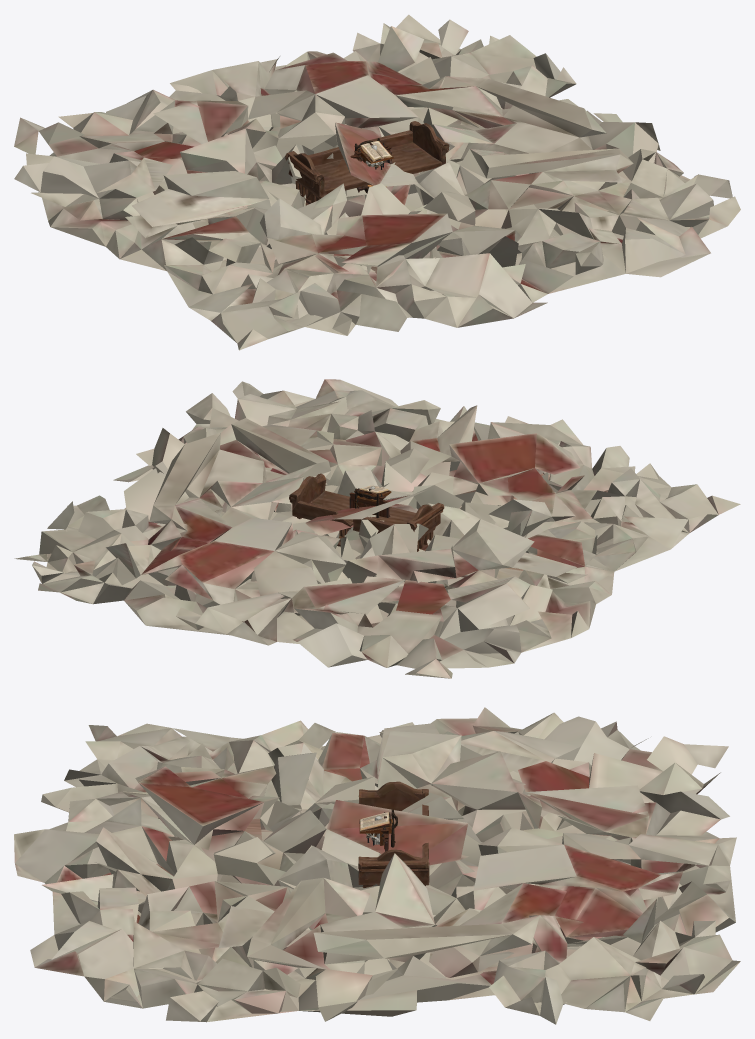
Rendered from arredi.glb.
The picture shows the model from 3 angles, top to bottom: view 1: azimuth 30°, elevation 25°; view 2: azimuth 150°, elevation 25°; view 3: azimuth 270°, elevation 25°; orthographic projection. The views are drawn at different scales.
Visible parts, largest first — view 1: macerie, rotta; view 2: macerie, rotta; view 3: macerie, rotta, leggio.
Boxes of the visible parts, <box> form: macerie: <box>14,14,740,350</box>; rotta: <box>285,121,449,205</box>; macerie: <box>14,379,740,678</box>; rotta: <box>289,473,444,551</box>; macerie: <box>14,707,740,1024</box>; rotta: <box>358,781,429,887</box>; leggio: <box>359,812,392,845</box>.
Size of the model in its own units: 10.9 by 1 by 10.9.
8 materials, 8 textured.
